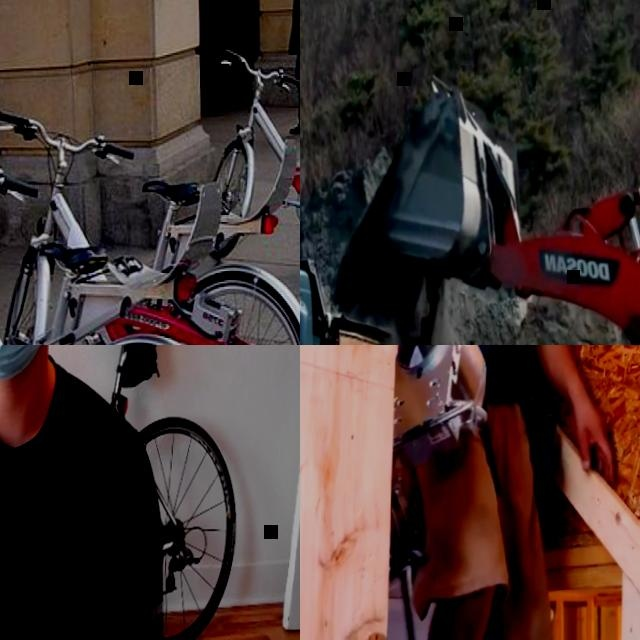NO-Safety Vest: (0, 356, 141, 640)
Person: (361, 345, 622, 640), (0, 345, 180, 640), (283, 0, 300, 136)
machinery: (366, 68, 640, 345)
